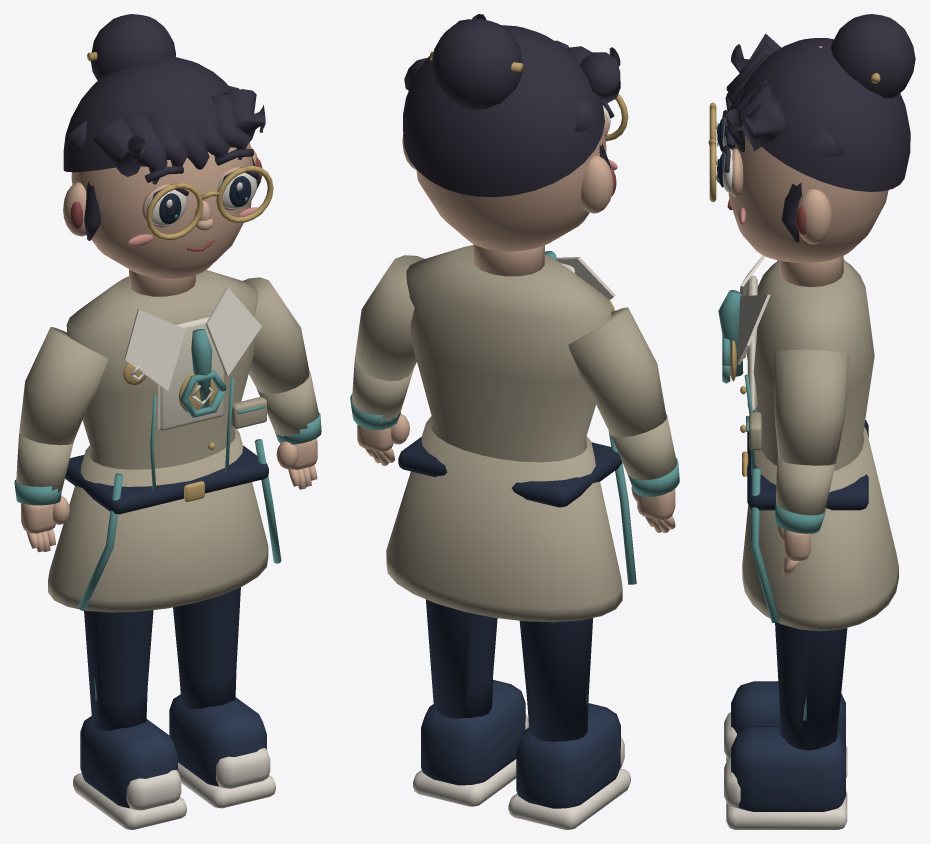
The model's file is npc_npc_hex_researcher_reward.glb.
3 views of the same model, side by side, from view 1: azimuth 30°, elevation 25°; view 2: azimuth 150°, elevation 25°; view 3: azimuth 270°, elevation 25° (orthographic). The views are drawn at different scales.
Visible parts, largest first — view 1: figure.059; view 2: figure.059; view 3: figure.059.
Part boxes in pixels (box(x1,y1,x2,y2)): figure.059: box(14, 14, 321, 829); figure.059: box(350, 14, 679, 829); figure.059: box(708, 14, 915, 829).
Bounding box in the file's own units: 0.6633 × 1.58 × 0.3818.
